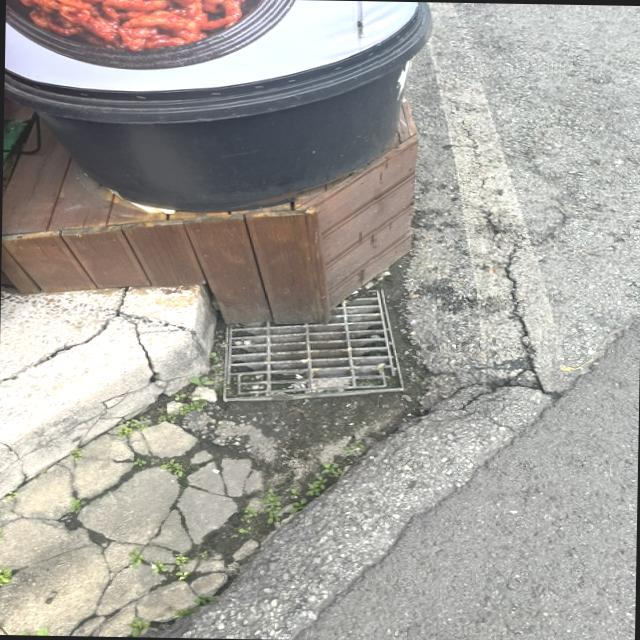drain_area: (242, 290, 394, 378)
drain_full: (225, 291, 402, 399)
